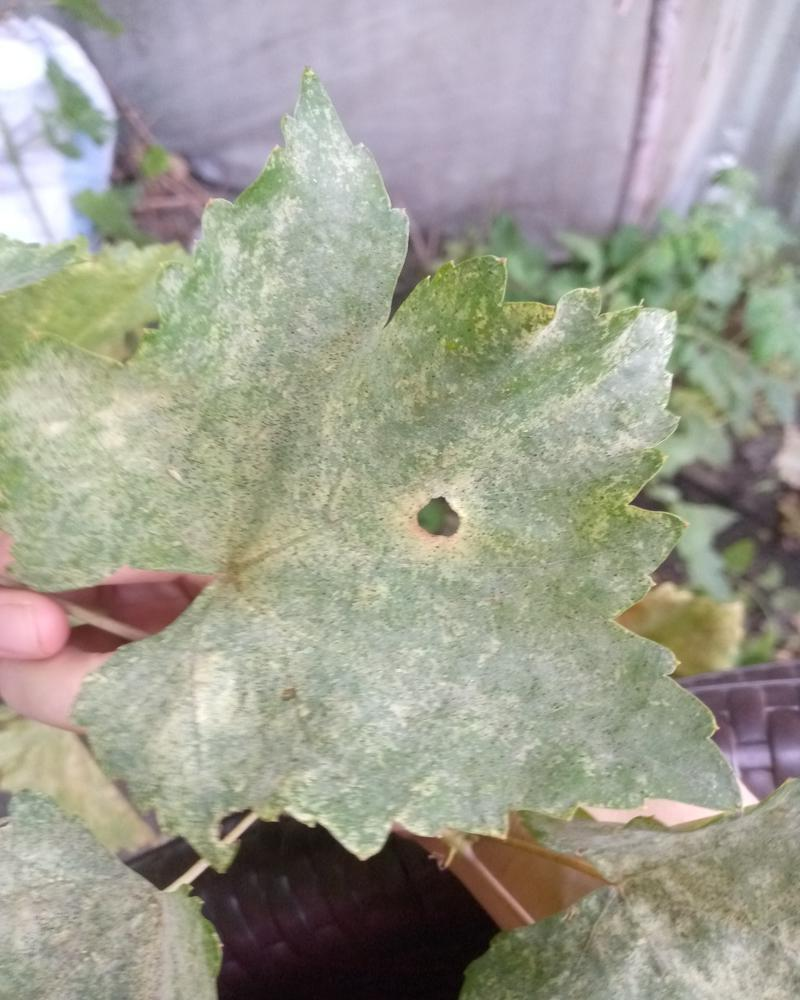Powdery-Mildew: (162, 79, 449, 562), (291, 637, 563, 862), (83, 600, 313, 847), (8, 357, 199, 534), (351, 428, 523, 609), (540, 279, 679, 455)
